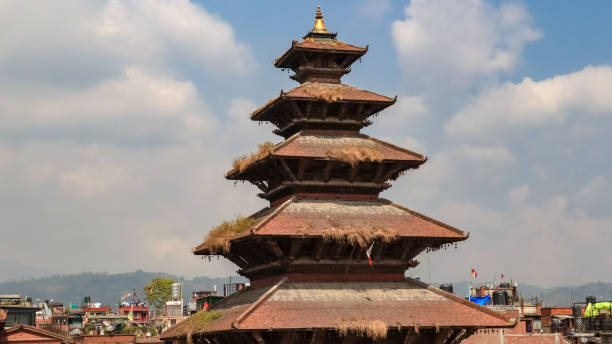nyathapola: (166, 6, 531, 339)
